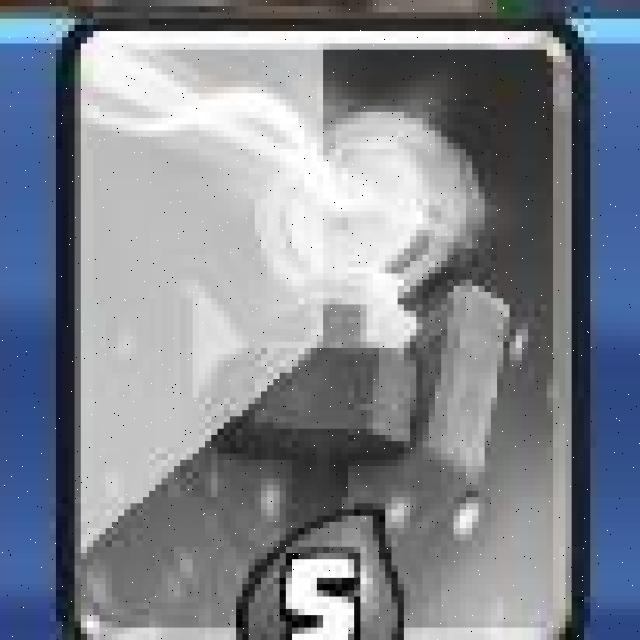Inferno_Tower: (61, 16, 580, 635)
